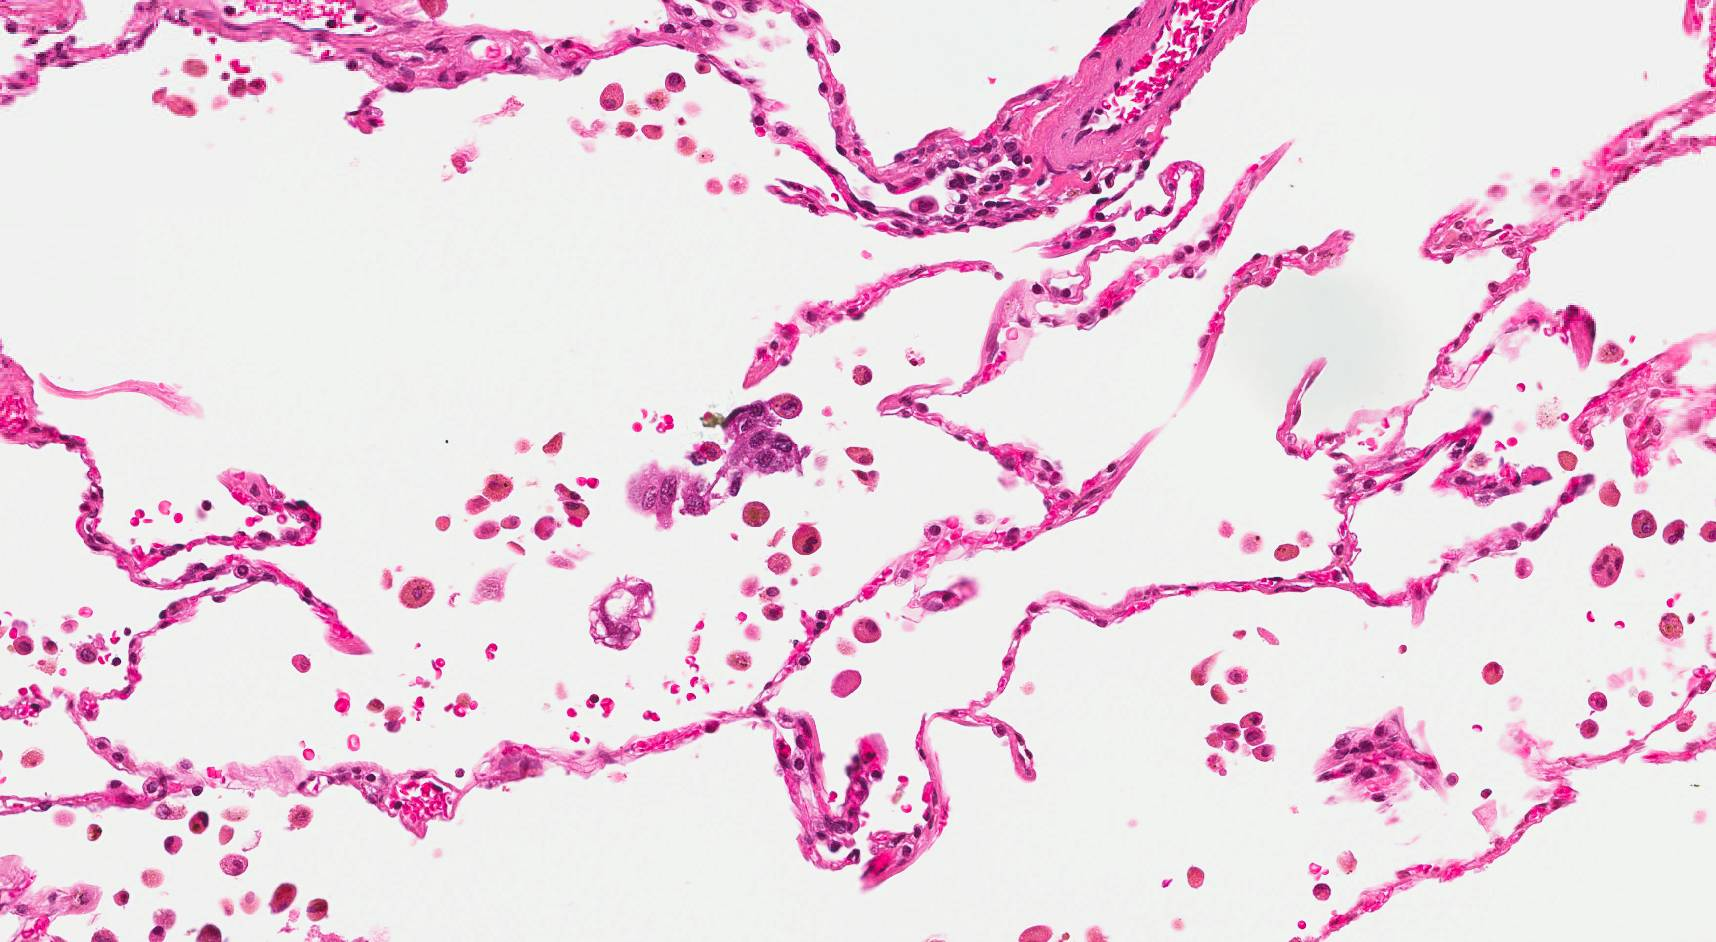stas: (702, 395, 808, 496), (624, 466, 713, 531), (586, 574, 657, 650)
